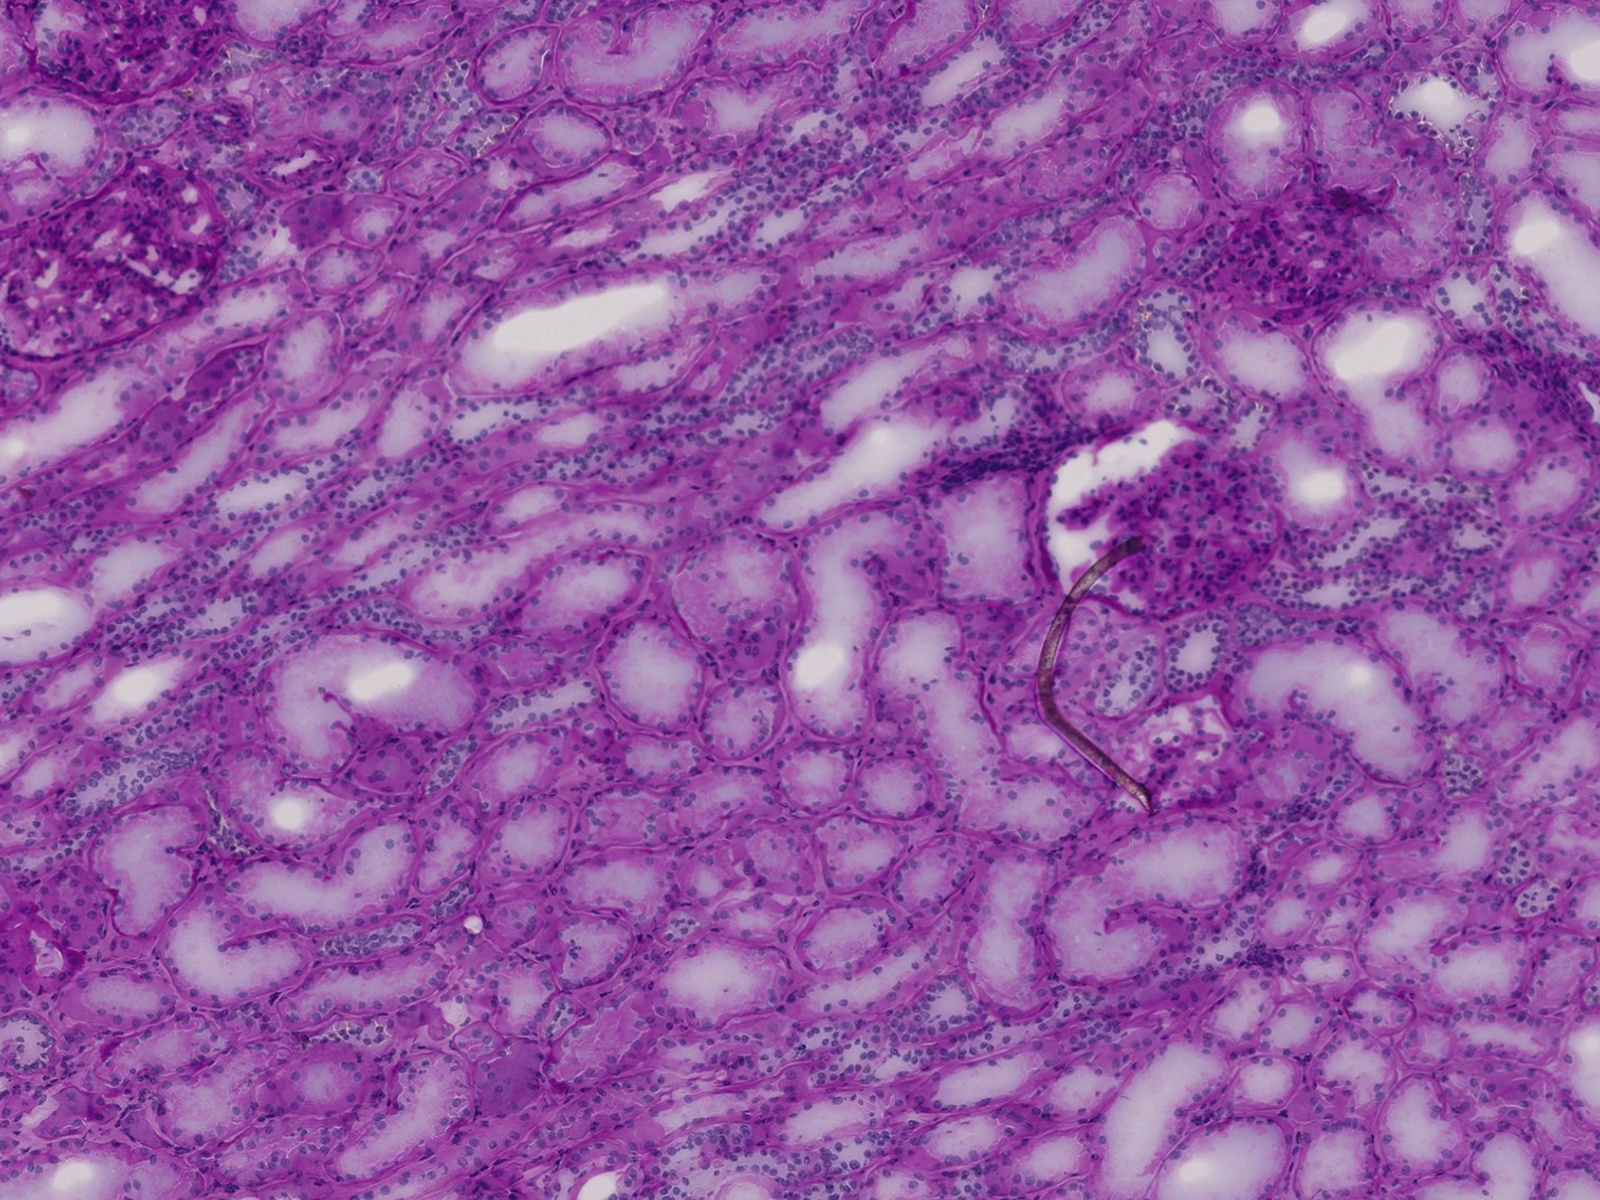Glomeruli: (1036, 417, 1295, 626), (1, 146, 239, 357), (1, 5, 239, 103)
